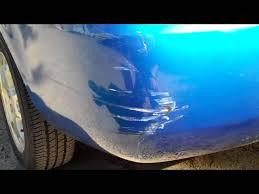rear-bumper-dent: (52, 29, 186, 147)
